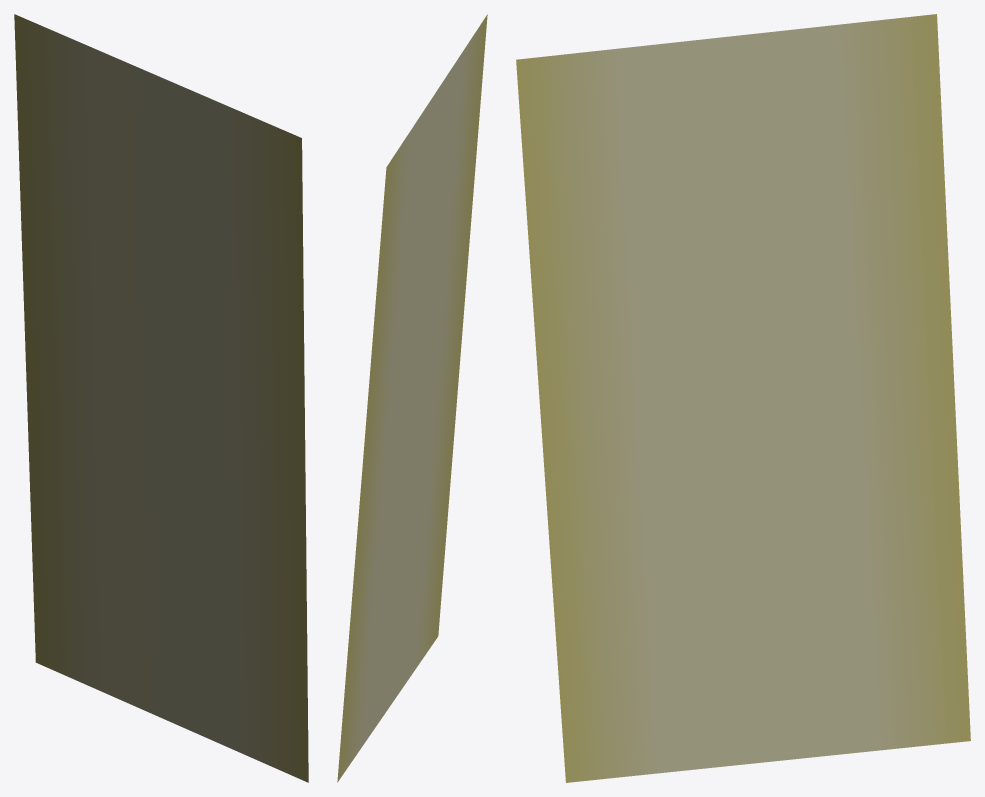
Rendered from WindowLeft2_2.glb.
3 renders of one model, left to right at view 1: azimuth 30°, elevation 25°; view 2: azimuth 150°, elevation 25°; view 3: azimuth 270°, elevation 25°, orthographic. The views are drawn at different scales.
Parts seen in each view (by area): view 1: WindowLeft2; view 2: WindowLeft2; view 3: WindowLeft2.
Boxes of the visible parts, <box> form: WindowLeft2: <box>14,14,308,782</box>; WindowLeft2: <box>337,14,487,782</box>; WindowLeft2: <box>516,14,970,782</box>.
Size of the model in its own units: 0.2379 by 1.28 by 0.7459.
